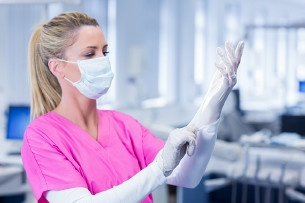Mask: (69, 42, 125, 98)
